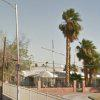Palm tree: (57, 1, 100, 78)
